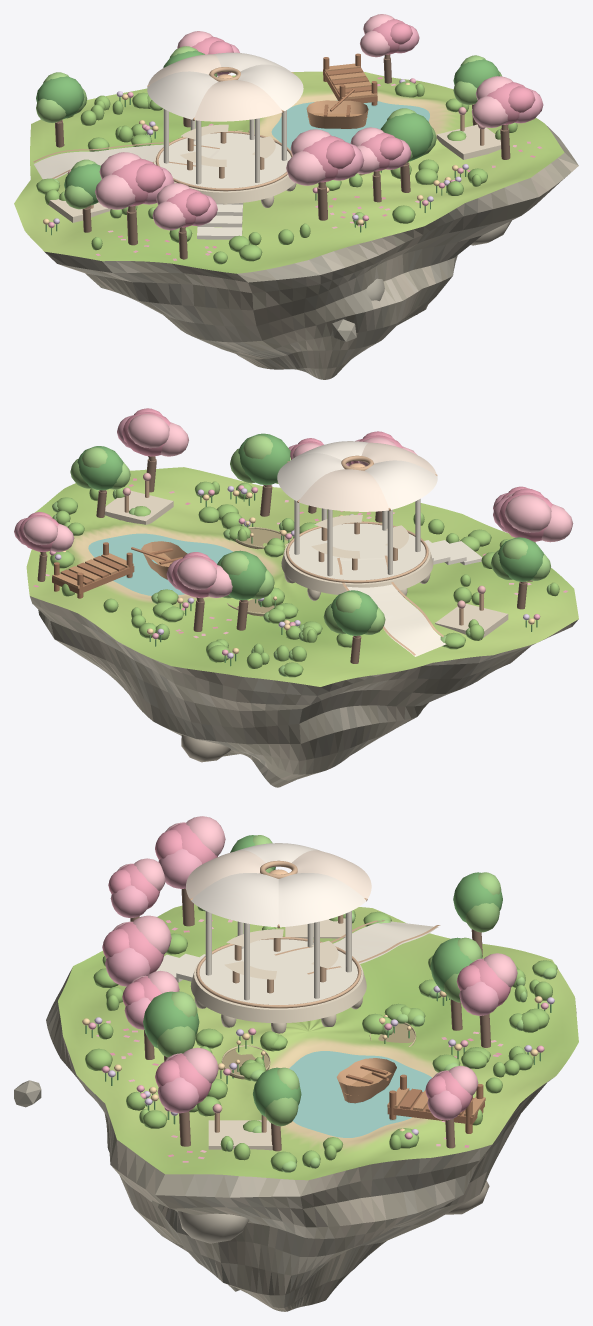
Rendered from spiral.glb.
3 views of the same model, one above another, from view 1: azimuth 30°, elevation 25°; view 2: azimuth 150°, elevation 25°; view 3: azimuth 270°, elevation 25° (orthographic). The views are drawn at different scales.
Visible parts, largest first — view 1: Island / geological landmass, Flowering and green gardens, NAV_spiral_terrain_0, Pavilion and circulation, NAV_spiral_pavilion_floor_1, Recessed pond, dock and boat, NAV_spiral_ramp_2, NAV_spiral_bridge_landing_9, NAV_spiral_bridge_landing_8, NAV_spiral_stair_3; view 2: NAV_spiral_terrain_0, Flowering and green gardens, Island / geological landmass, Pavilion and circulation, NAV_spiral_pavilion_floor_1, Recessed pond, dock and boat, NAV_spiral_ramp_2, NAV_spiral_bridge_landing_9, NAV_spiral_bridge_landing_8, NAV_spiral_dock_10; view 3: Flowering and green gardens, NAV_spiral_terrain_0, Island / geological landmass, Pavilion and circulation, Recessed pond, dock and boat, NAV_spiral_pavilion_floor_1, NAV_spiral_ramp_2, NAV_spiral_bridge_landing_9, NAV_spiral_bridge_landing_8, NAV_spiral_dock_10.
Part boxes in pixels (bbox=[...]): Island / geological landmass: bbox=[44, 125, 578, 379]; Flowering and green gardens: bbox=[36, 14, 543, 264]; NAV_spiral_terrain_0: bbox=[14, 71, 564, 273]; Pavilion and circulation: bbox=[33, 52, 485, 208]; NAV_spiral_pavilion_floor_1: bbox=[158, 133, 291, 191]; Recessed pond, dock and boat: bbox=[271, 53, 429, 150]; NAV_spiral_ramp_2: bbox=[34, 144, 218, 179]; NAV_spiral_bridge_landing_9: bbox=[436, 124, 500, 159]; NAV_spiral_bridge_landing_8: bbox=[48, 199, 110, 222]; NAV_spiral_stair_3: bbox=[197, 227, 242, 239]; NAV_spiral_terrain_0: bbox=[26, 467, 578, 686]; Flowering and green gardens: bbox=[14, 408, 573, 677]; Island / geological landmass: bbox=[30, 596, 578, 787]; Pavilion and circulation: bbox=[122, 441, 485, 655]; NAV_spiral_pavilion_floor_1: bbox=[289, 523, 425, 583]; Recessed pond, dock and boat: bbox=[54, 533, 233, 598]; NAV_spiral_ramp_2: bbox=[340, 557, 446, 656]; NAV_spiral_bridge_landing_9: bbox=[104, 490, 173, 524]; NAV_spiral_bridge_landing_8: bbox=[435, 603, 508, 639]; NAV_spiral_dock_10: bbox=[52, 566, 134, 594]; Flowering and green gardens: bbox=[82, 816, 557, 1172]; NAV_spiral_terrain_0: bbox=[58, 904, 578, 1180]; Island / geological landmass: bbox=[14, 968, 576, 1311]; Pavilion and circulation: bbox=[186, 843, 440, 1132]; Recessed pond, dock and boat: bbox=[289, 1051, 483, 1137]; NAV_spiral_pavilion_floor_1: bbox=[199, 939, 357, 1008]; NAV_spiral_ramp_2: bbox=[275, 921, 438, 976]; NAV_spiral_bridge_landing_9: bbox=[208, 1120, 272, 1150]; NAV_spiral_bridge_landing_8: bbox=[285, 918, 345, 938]; NAV_spiral_dock_10: bbox=[387, 1090, 484, 1124].
Size of the model in its own units: 12.91 by 7.7 by 10.4.
